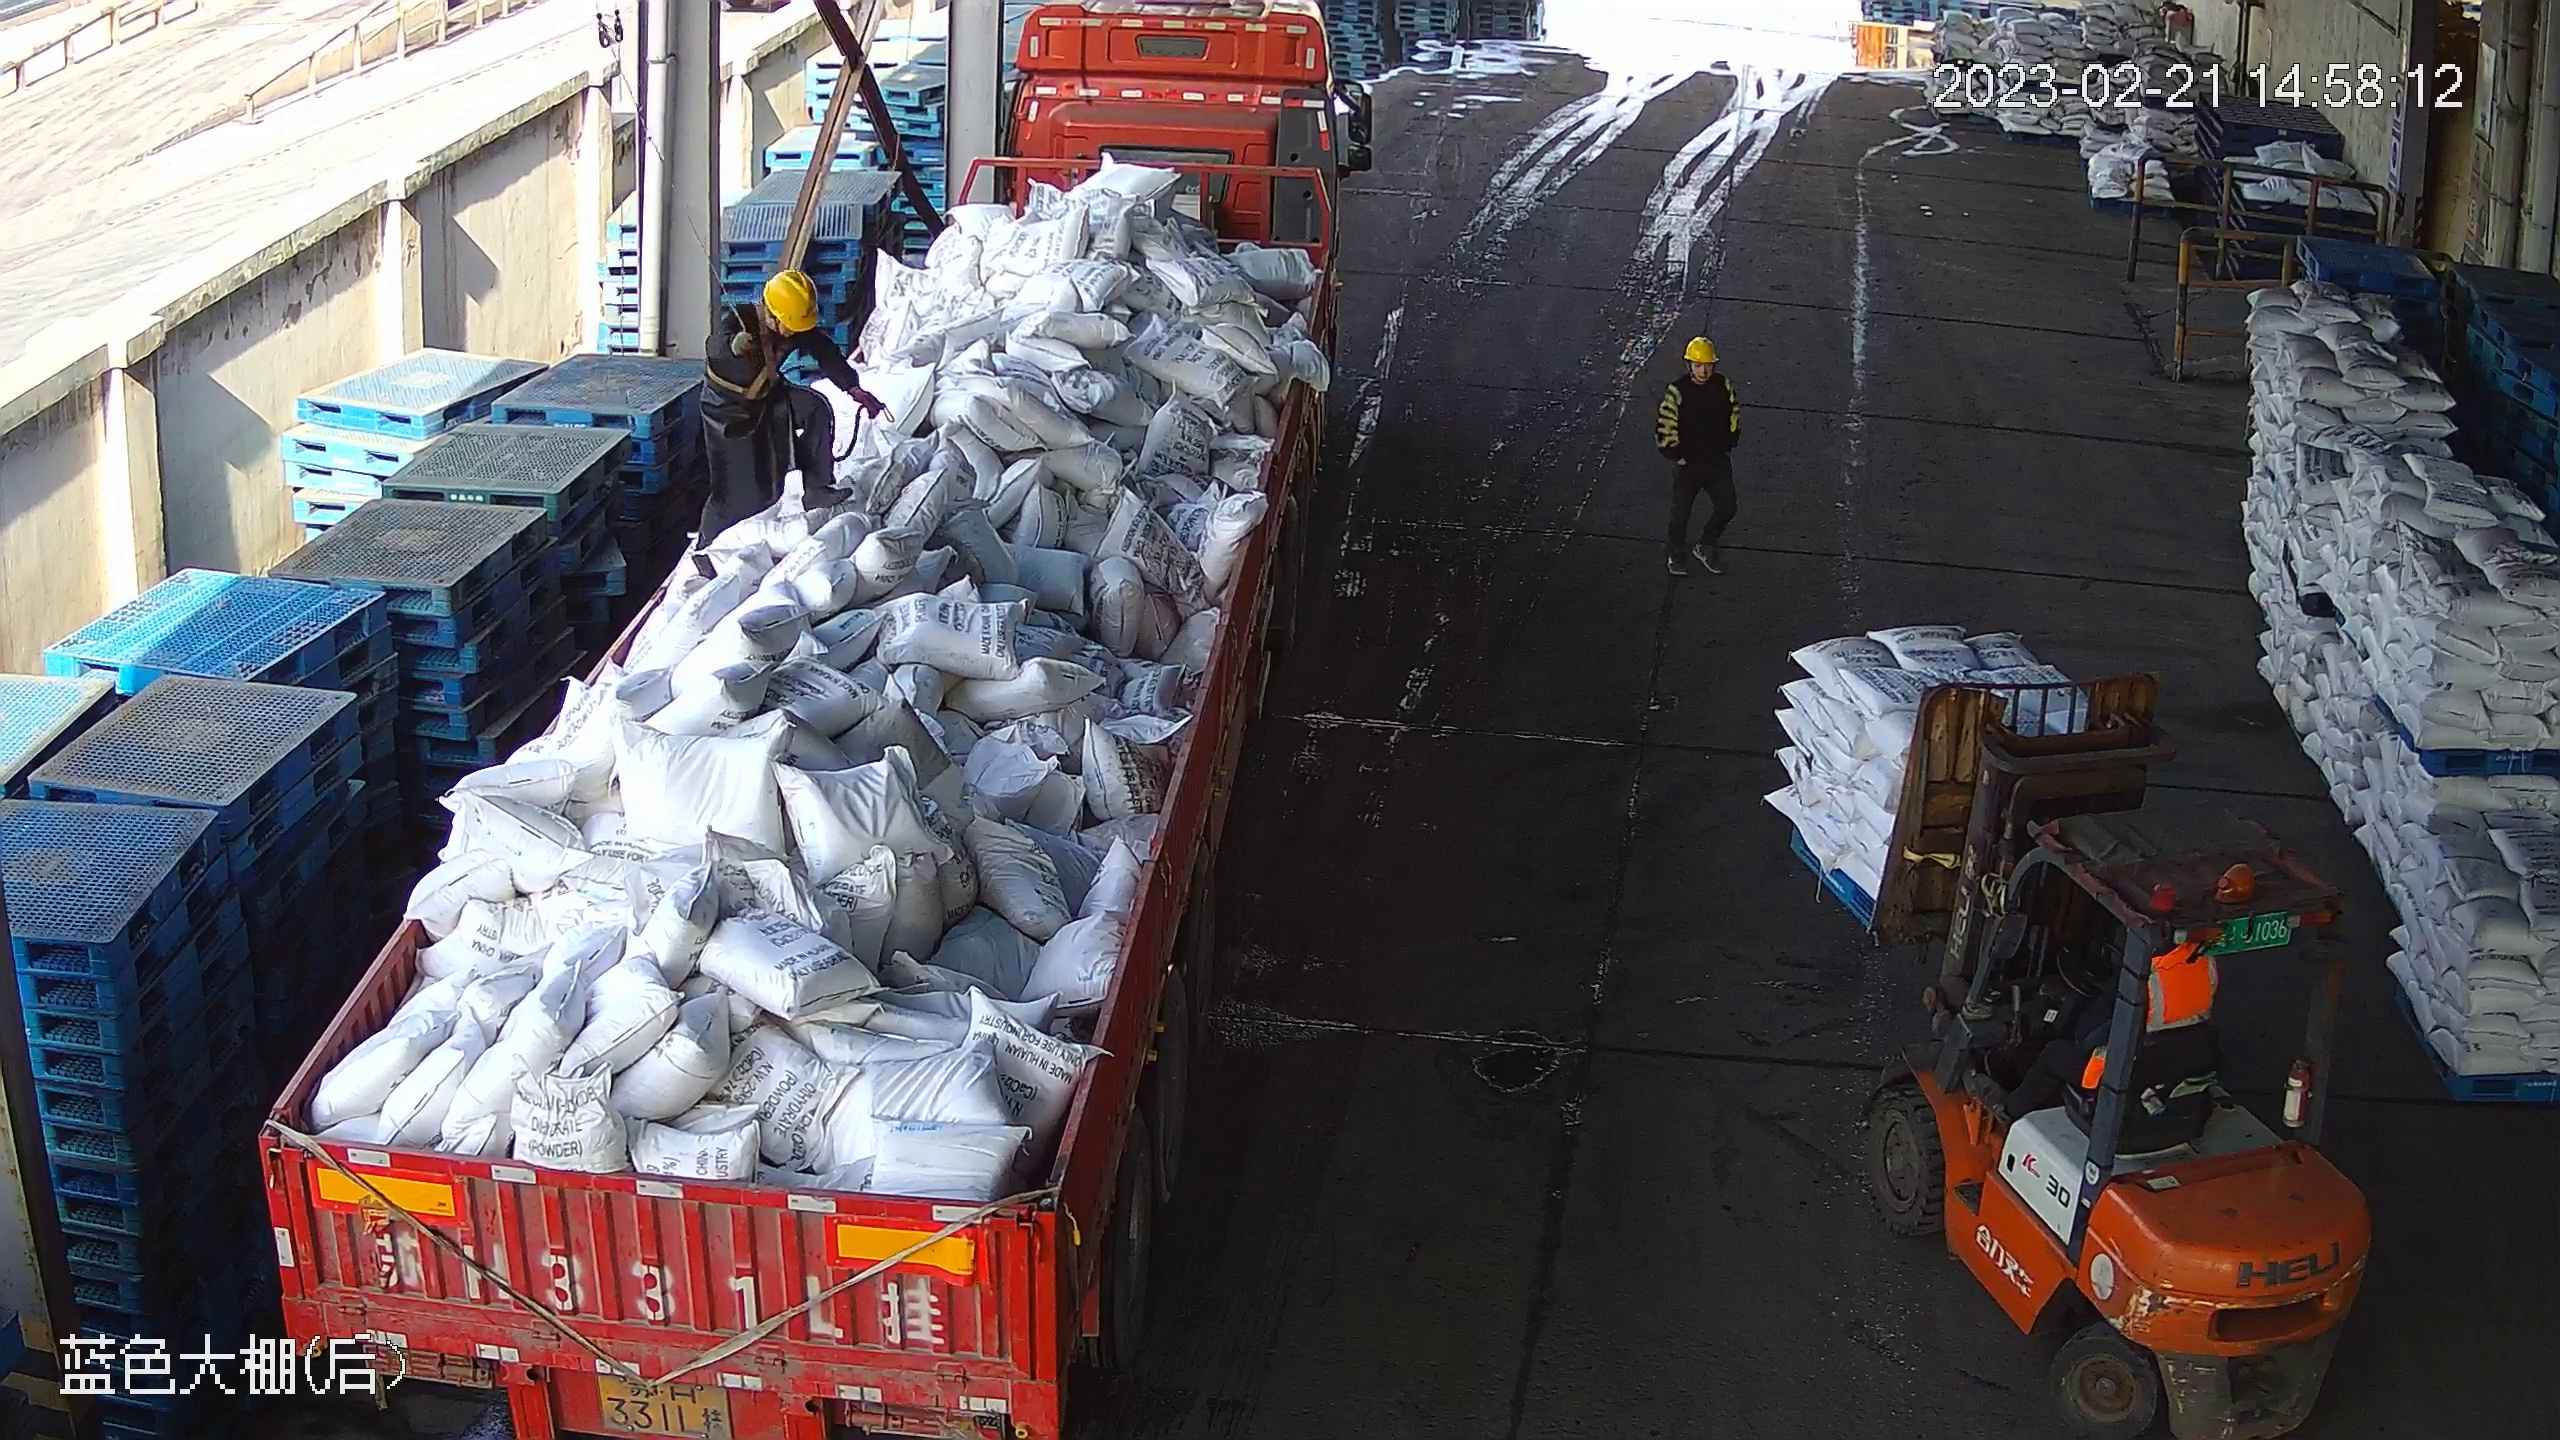belt: (708, 293, 779, 400)
head: (717, 266, 824, 374), (1659, 331, 1736, 417)
helmet: (763, 269, 820, 333), (1683, 336, 1718, 366)
people: (691, 271, 886, 578), (1963, 922, 2227, 1132), (1654, 332, 1744, 578)
truck: (245, 1, 1371, 1437)
